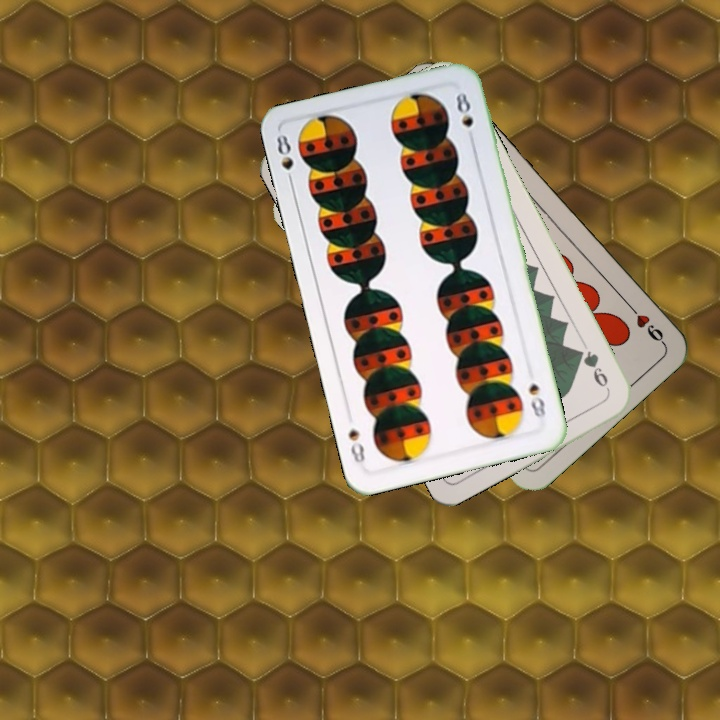G9: (573, 345, 613, 394)
H9: (623, 299, 667, 347)
S8: (272, 130, 296, 189), (525, 378, 548, 421)
